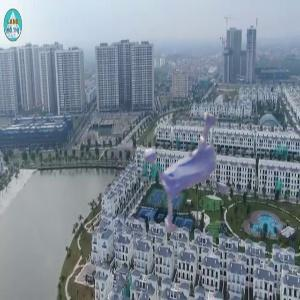drone: (120, 84, 260, 224)
